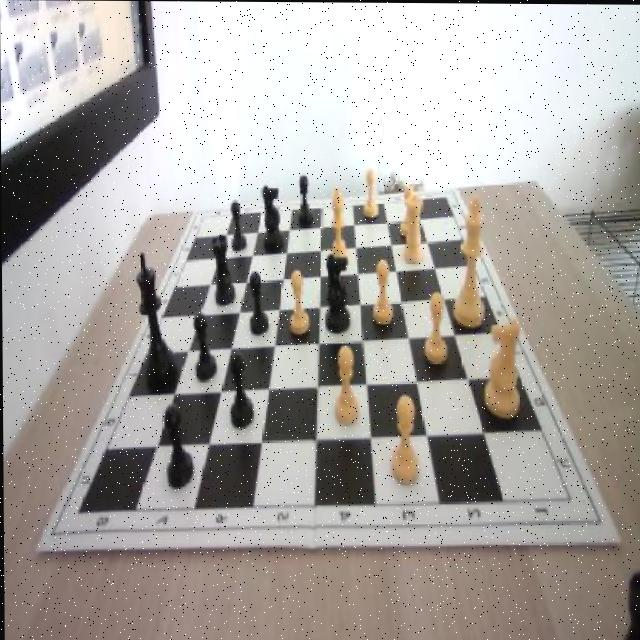black-bishop: (134, 253, 176, 389)
black-king: (324, 252, 353, 334), (261, 182, 283, 253)
black-knight: (164, 404, 193, 488), (227, 350, 253, 427), (193, 312, 218, 381), (246, 269, 268, 337), (230, 200, 246, 253), (296, 173, 312, 223)
black-queen: (211, 229, 237, 305)
black-rook: (327, 186, 349, 271)
white-bishop: (451, 198, 485, 328)
white-king: (483, 320, 522, 421)
white-knight: (389, 395, 422, 485), (329, 342, 361, 427), (422, 290, 450, 367), (371, 259, 396, 327), (287, 268, 308, 334), (361, 170, 380, 218), (399, 185, 417, 235)
white-queen: (401, 193, 425, 263)
